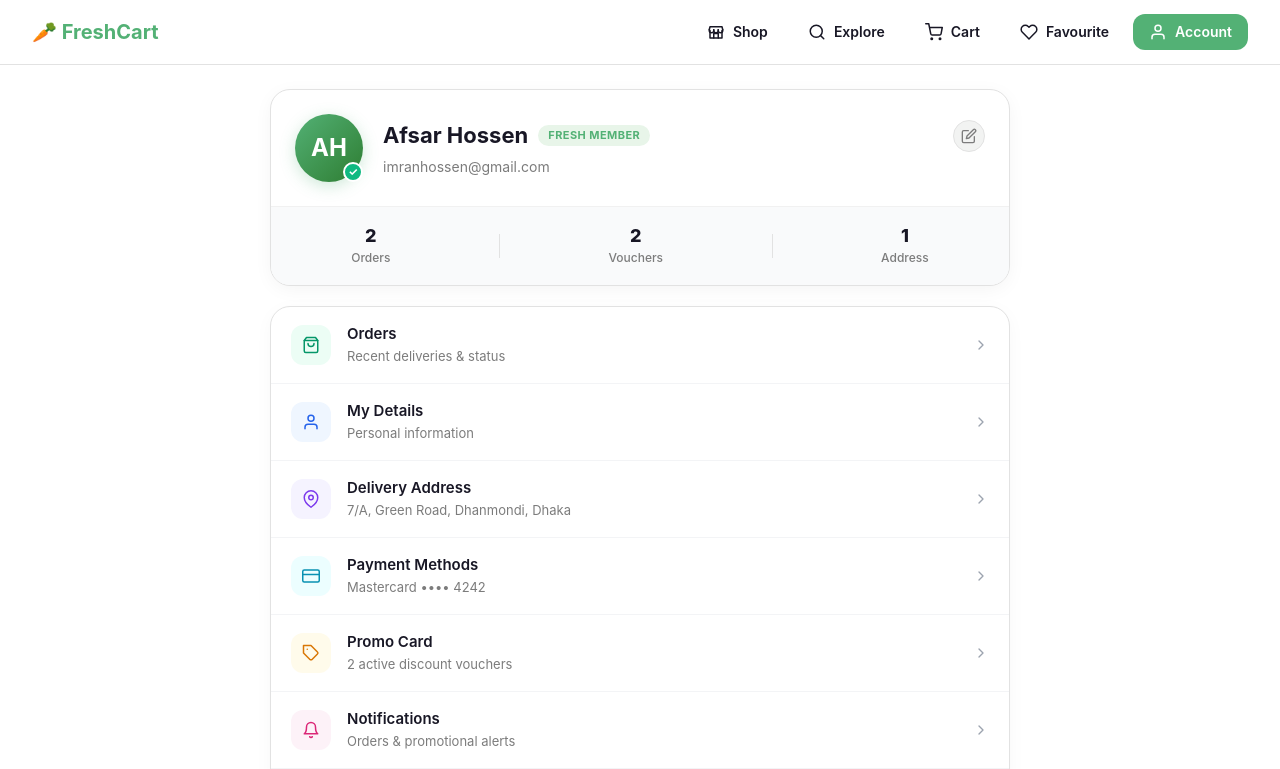
Scenario: AccountPage › allows editing and saving user profile name and email
Click the button named "edit user profile" at (969, 136), box [953, 120, 985, 152]
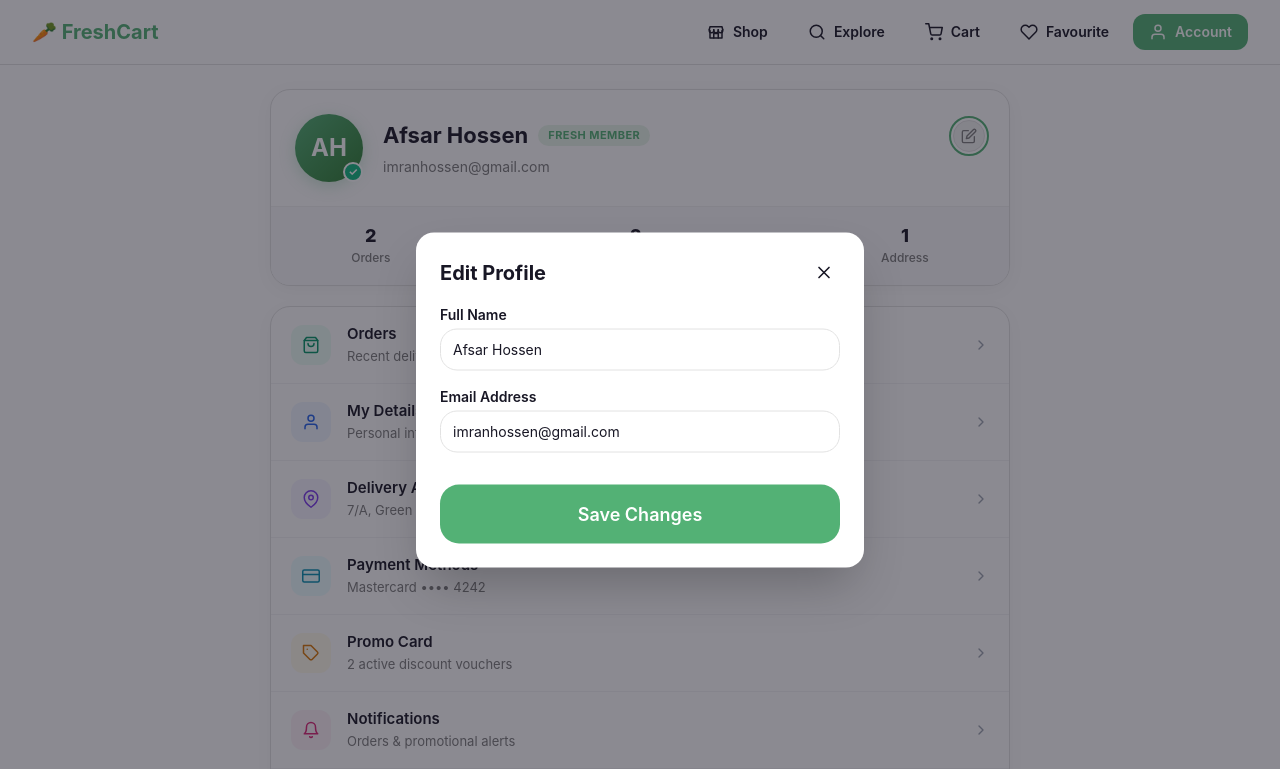
Expected: the heading "Edit Profile" is shown, [440, 258, 546, 286]
Replace the text in the field labelled "Full Name" with "Jane Doe" at (640, 350), box [440, 328, 840, 370]
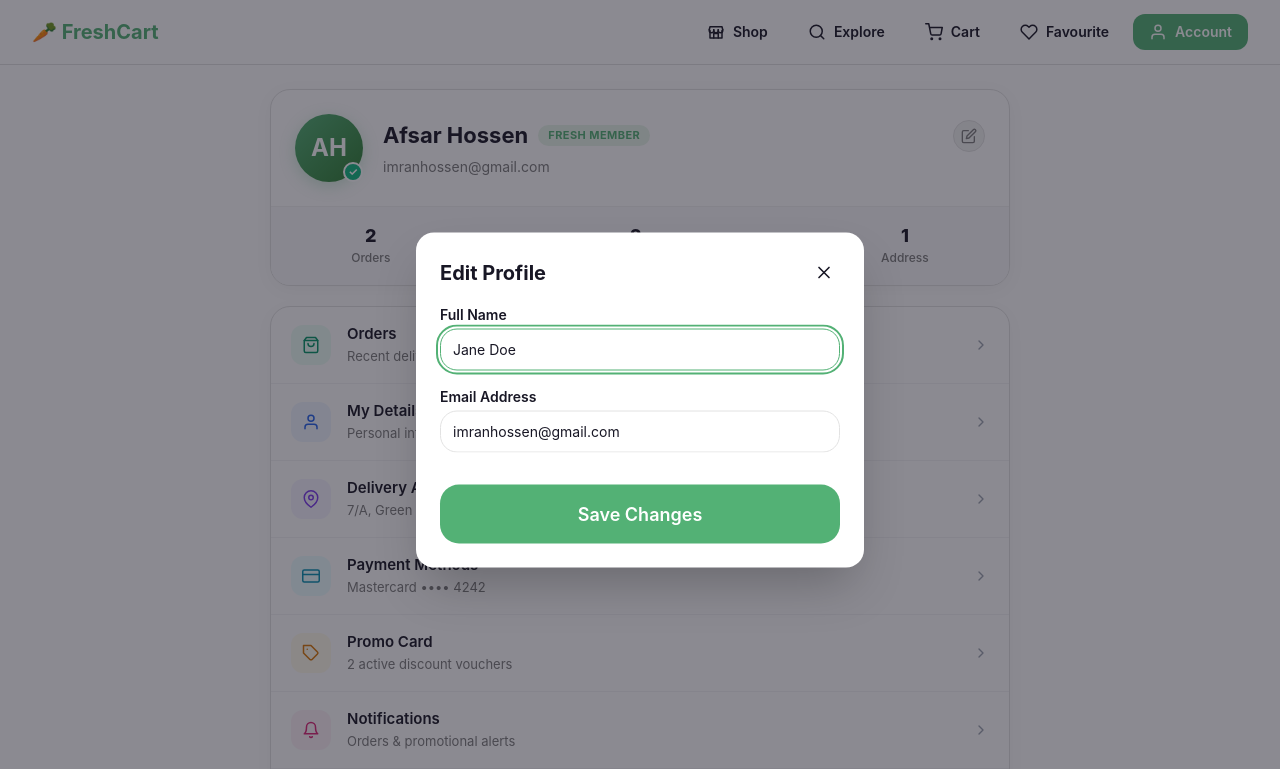
Replace the text in the field labelled "Email Address" with "jane.doe@example.com" at (640, 432), box [440, 410, 840, 452]
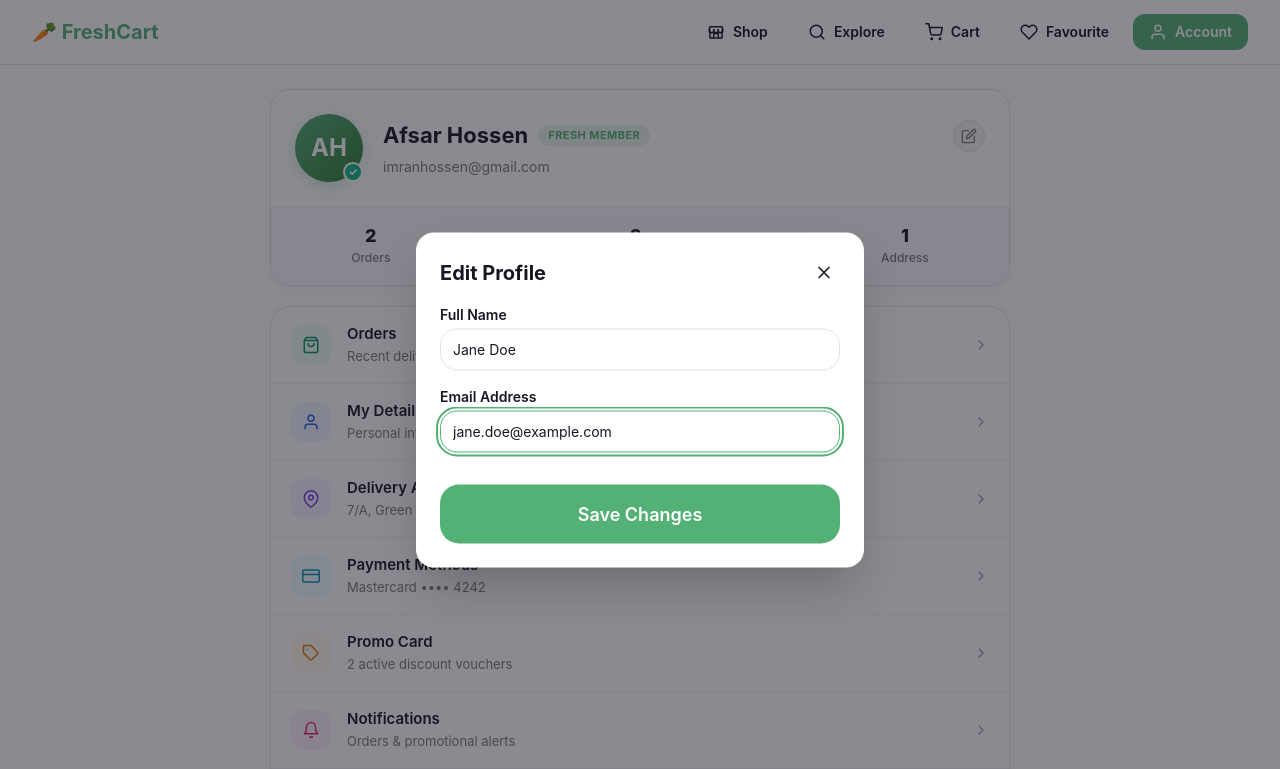
Click the button "Save Changes" at (640, 514), box [440, 484, 840, 544]
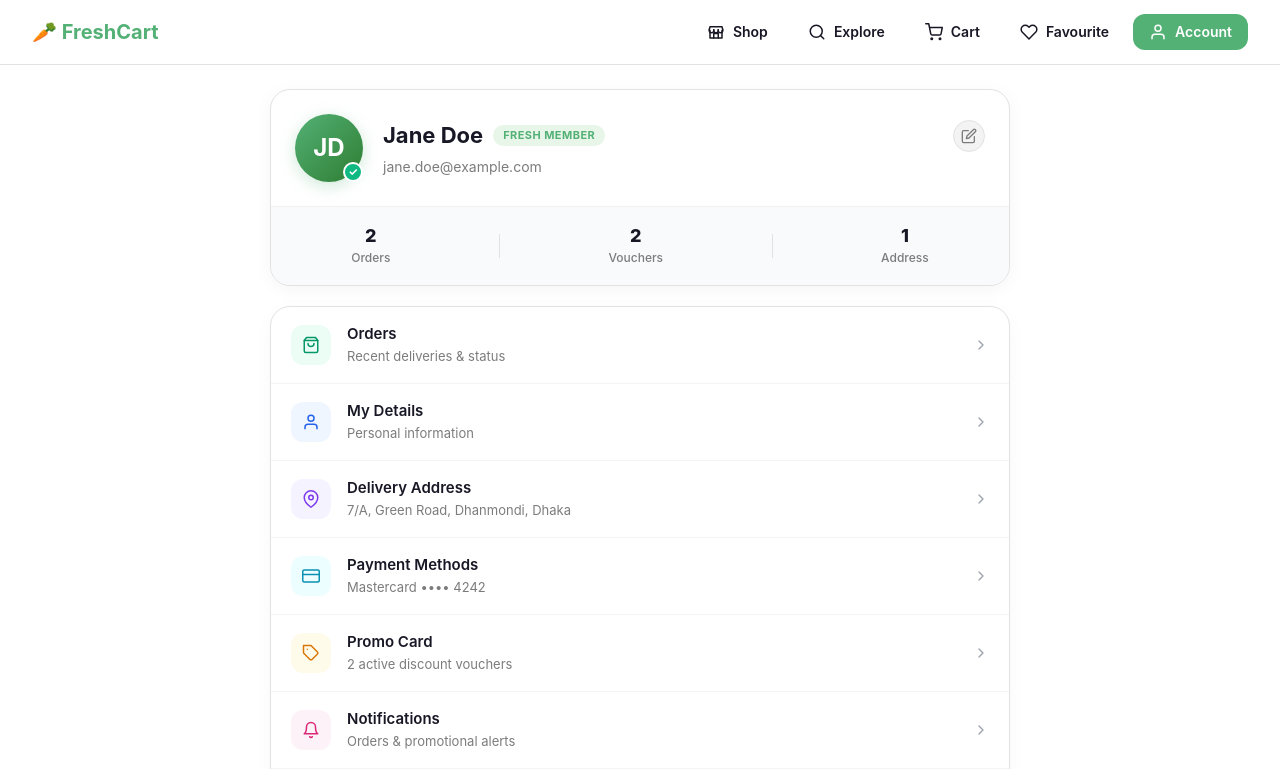
Expected: the heading "Jane Doe" is shown, [383, 119, 483, 152]
Expected: the text "jane.doe@example.com" is shown, [383, 158, 542, 175]
Expected: the text "JD" is shown, [295, 114, 363, 182]
